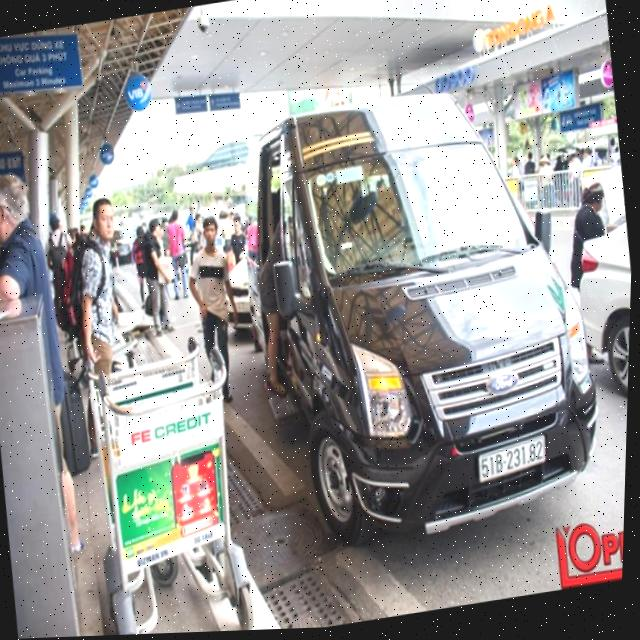car: (234, 58, 626, 574), (557, 181, 634, 428)
plate: (472, 434, 551, 485)
